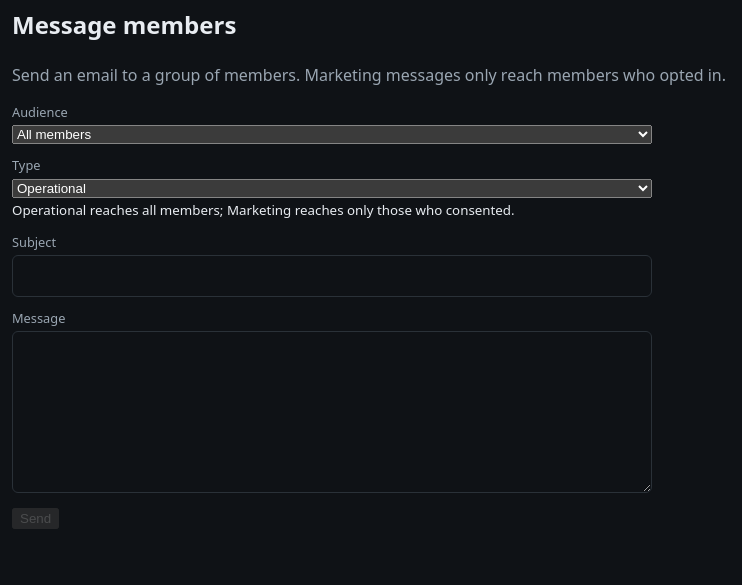
it: MessagesPage › composes and sends a transactional broadcast to all members, then shows the summary
Type "Open mat Saturday" into the field labelled "Subject" at point(332, 276), box [12,255,652,297]
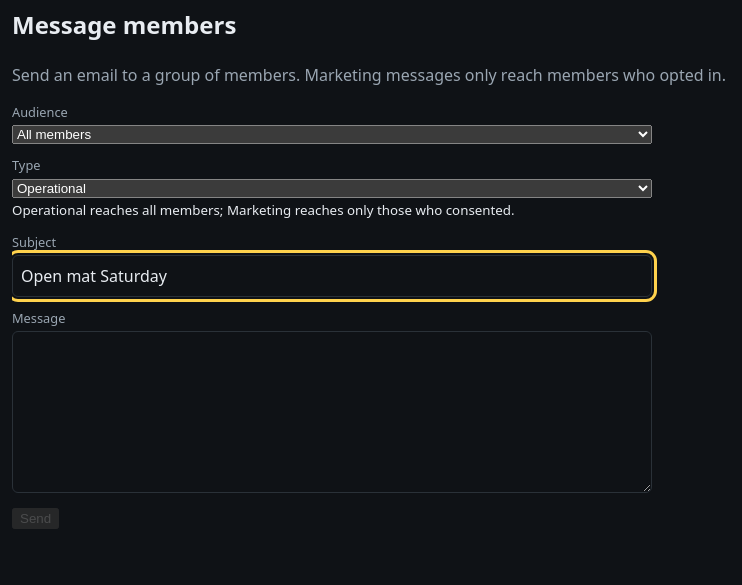
Type "Come train!" into the text box labelled "Message" at point(332, 412), box [12,332,652,494]
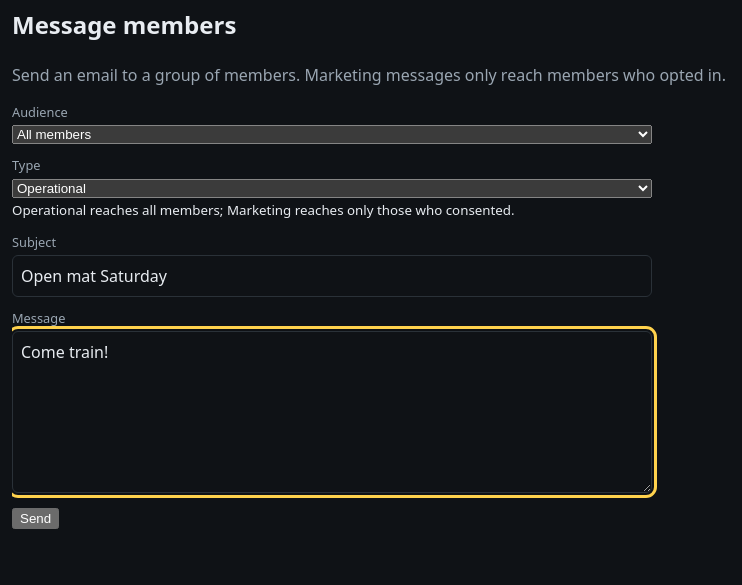
Click the button "Send" at point(36, 519), box [12,508,59,530]
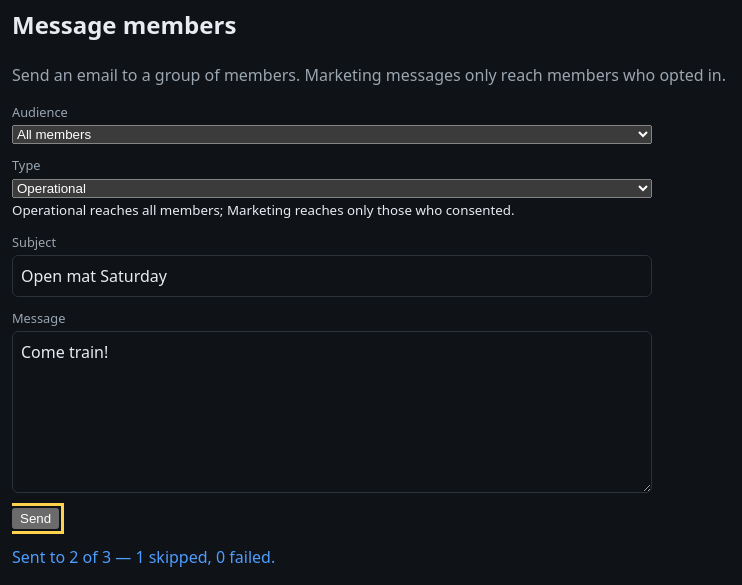
Result: the text "Sent to 2 of 3 — 1 skipped, 0 failed." is shown at [12,546,275,568]
